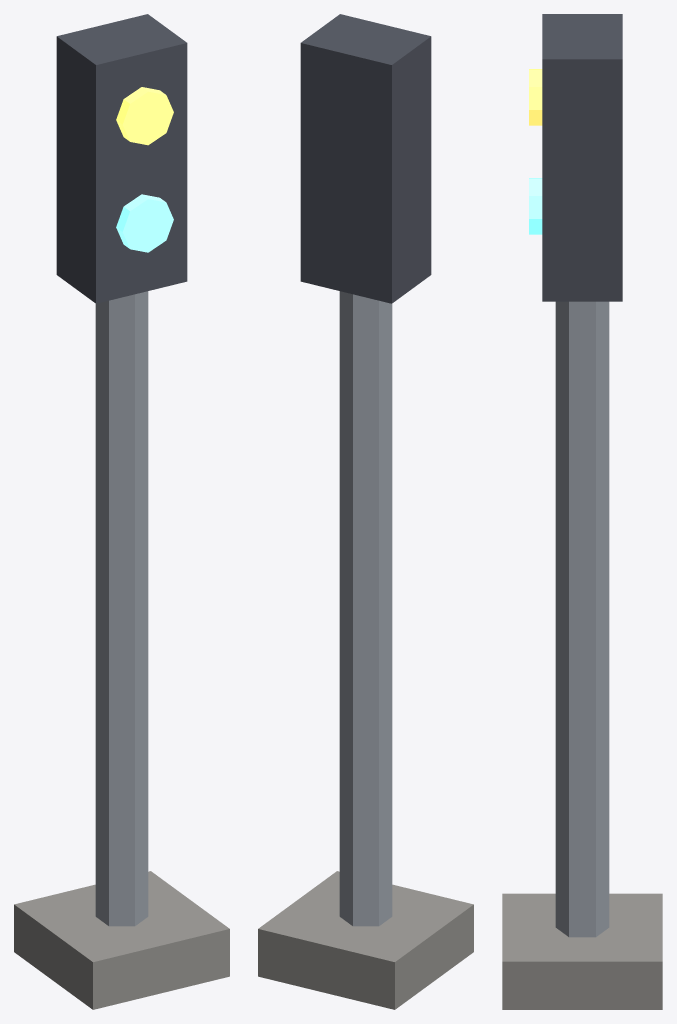
Rendered from sinal_trem.glb.
The picture shows the model from 3 angles, left to right: view 1: azimuth 30°, elevation 25°; view 2: azimuth 150°, elevation 25°; view 3: azimuth 270°, elevation 25°; orthographic projection.
Parts seen in each view (by area): view 1: sinal_trem; view 2: sinal_trem; view 3: sinal_trem.
Part boxes in pixels (x1,y1,x2,y2): sinal_trem: (14, 14, 229, 1009); sinal_trem: (258, 14, 473, 1009); sinal_trem: (502, 14, 662, 1009).
Bounding box in the file's own units: 0.24 × 1.55 × 0.24.
